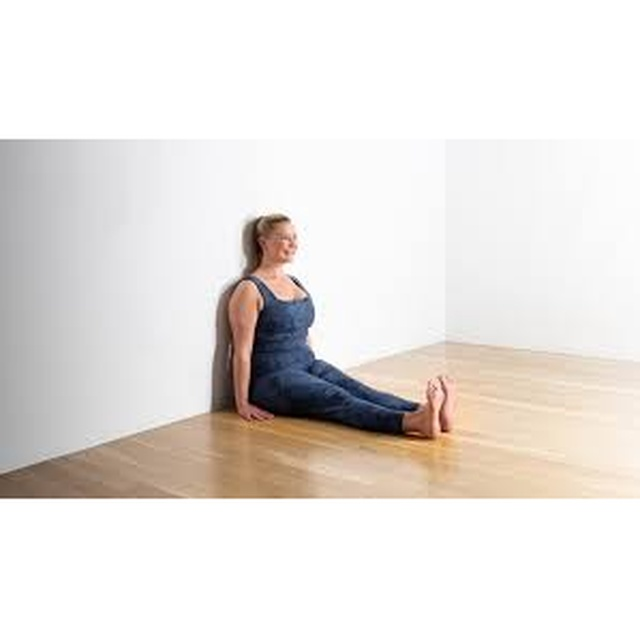Staff_Pose: (226, 214, 454, 442)
